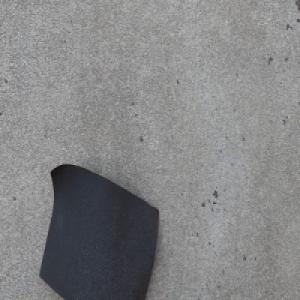PaintChip: (39, 162, 159, 300)
